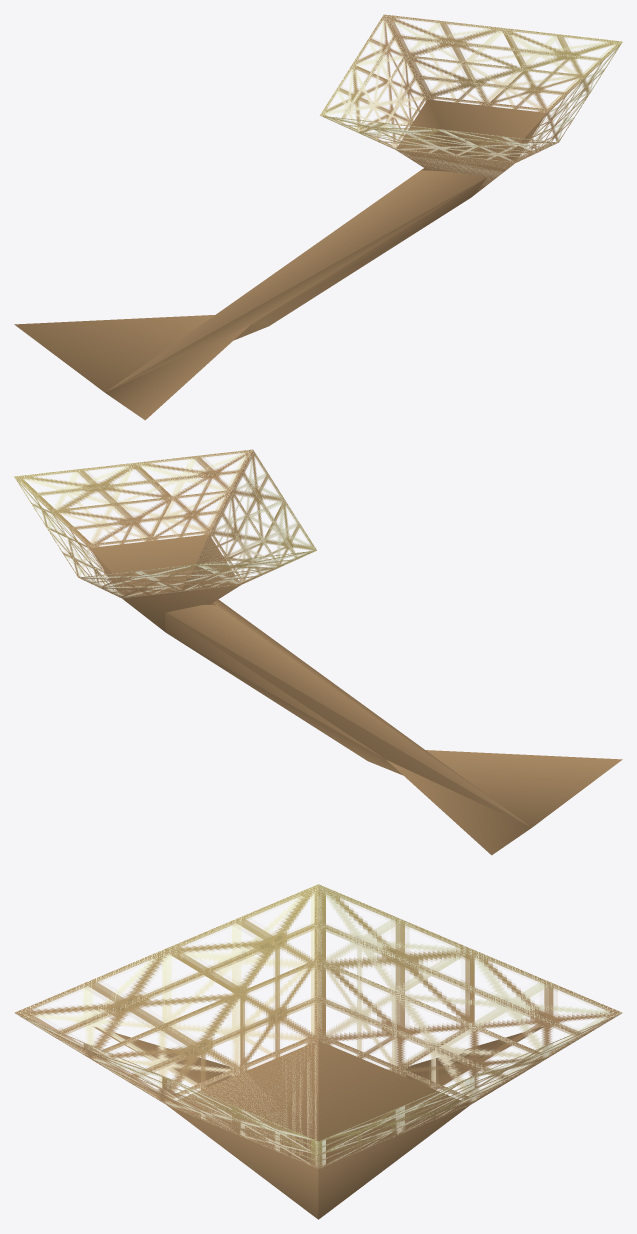
File: uvmd-0087.glb
3 renders of one model, top to bottom at view 1: azimuth 30°, elevation 25°; view 2: azimuth 150°, elevation 25°; view 3: azimuth 270°, elevation 25°, orthographic. The views are drawn at different scales.
Parts seen in each view (by area): view 1: uvmd-0087; view 2: uvmd-0087; view 3: uvmd-0087.
Part boxes in pixels (x1=…): uvmd-0087: x1=14, y1=14, x2=622, y2=420; uvmd-0087: x1=14, y1=449, x2=622, y2=855; uvmd-0087: x1=14, y1=884, x2=622, y2=1219.
Size of the model in its own units: 43 by 17 by 24.
2 materials, 2 textured.
